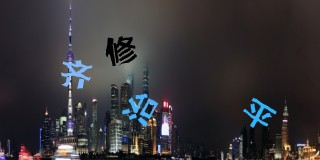修: (104, 35, 137, 66)
平: (119, 92, 159, 125), (242, 95, 277, 128)
齐: (59, 58, 93, 89)
